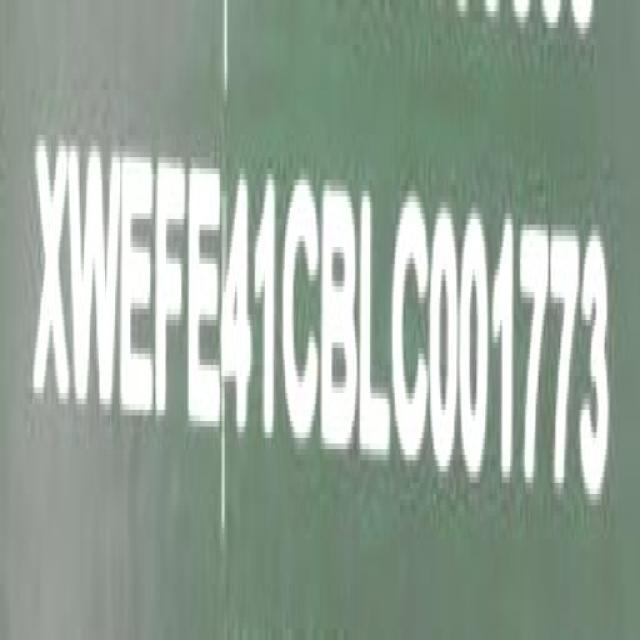0: (460, 196, 492, 488), (429, 194, 460, 486)
1: (491, 200, 518, 496), (255, 162, 281, 448)
3: (580, 226, 614, 511)
4: (220, 159, 254, 450)
7: (518, 215, 549, 500), (547, 213, 577, 505)
B: (320, 173, 360, 462)
C: (282, 168, 324, 460), (393, 186, 433, 475)
E: (119, 146, 159, 435), (187, 158, 225, 446)
F: (154, 147, 190, 441)
L: (358, 182, 393, 471)
W: (70, 131, 122, 435)
X: (32, 126, 72, 430)
